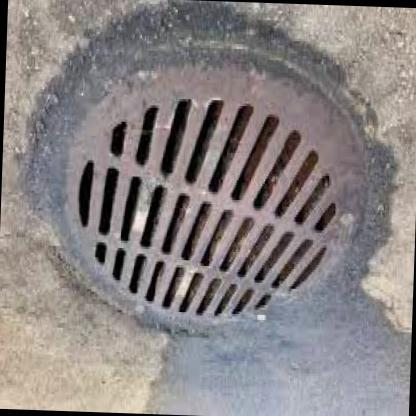manholes: (29, 9, 385, 355)
